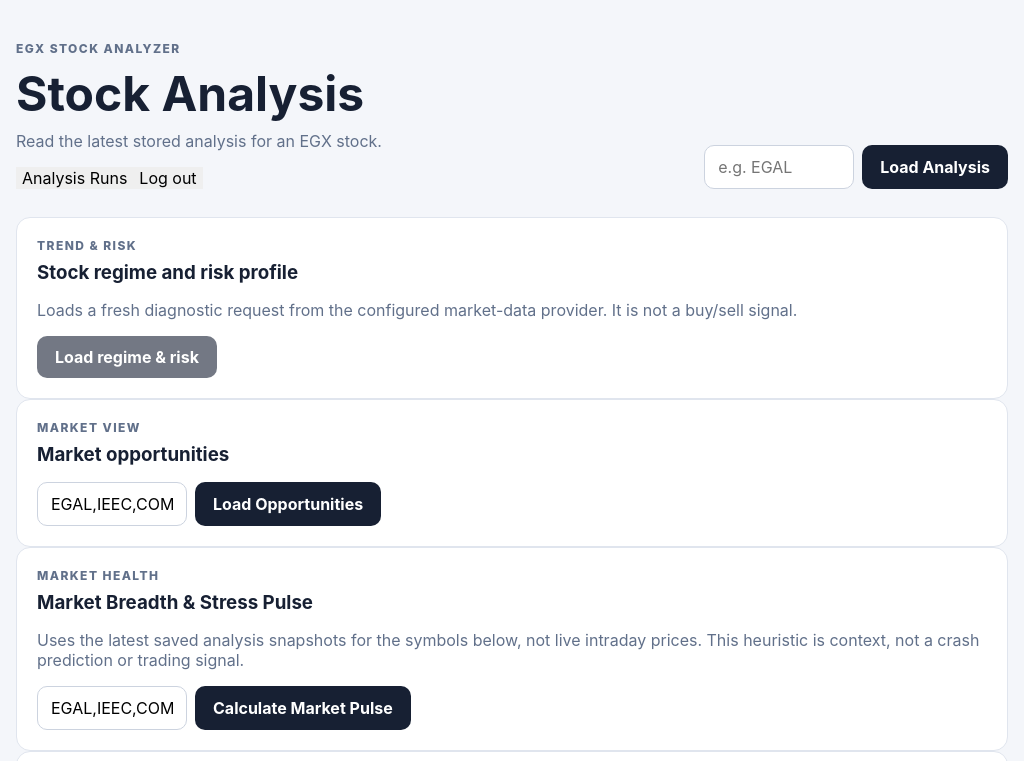
Scenario: Dashboard › renders market breadth stress with coverage and missing data context
Expected: the field named "Stock Symbol" is shown, [704, 145, 854, 189]
Type "egal,ieec,comi" into the field named "Market breadth symbols" below "Market Breadth & Stress Pulse" at point(112, 708), box [37, 686, 187, 730]
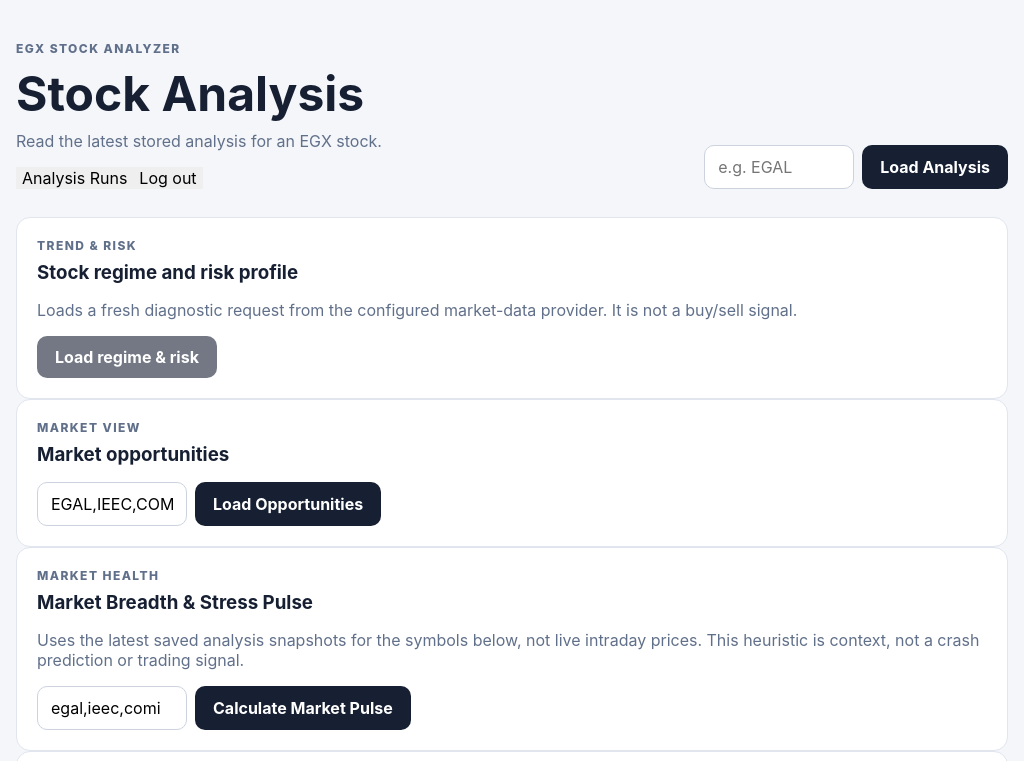
Click the button "Calculate Market Pulse" at point(303, 708), box [195, 686, 411, 730]
(page scrolled)
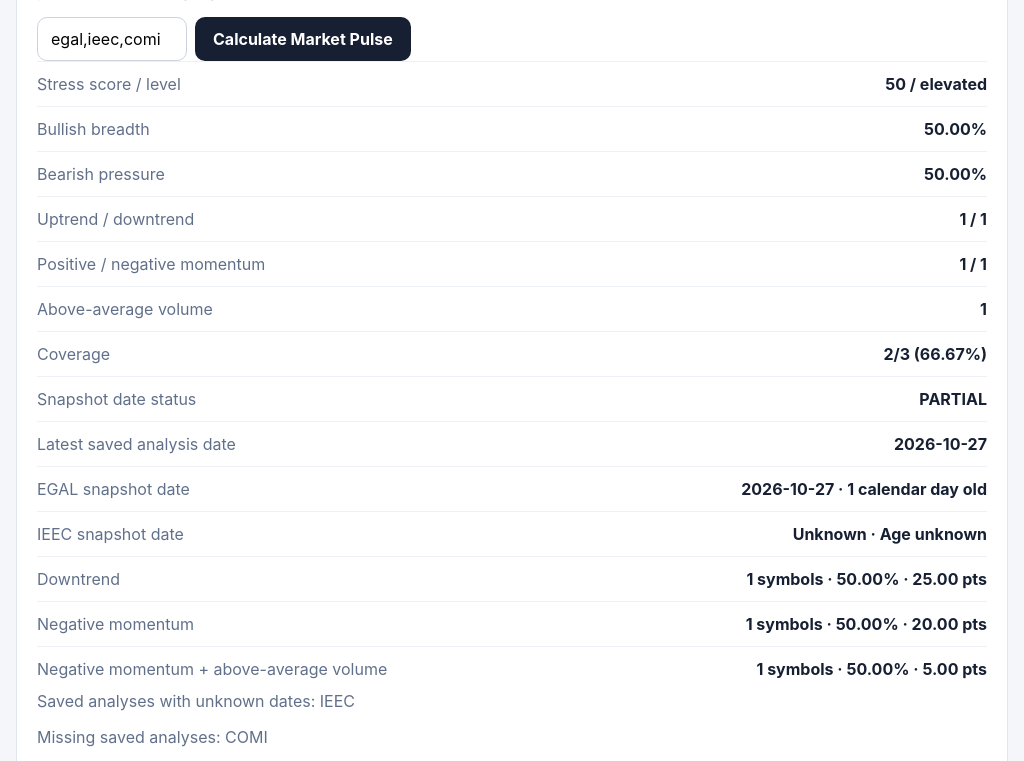
Expected: the element named "market breadth and stress pulse" shows "Snapshot date status", [37, 389, 196, 409]
Expected: the element named "market breadth and stress pulse" shows "PARTIAL", [919, 389, 987, 409]
Expected: the element named "market breadth and stress pulse" shows "Latest saved analysis date", [37, 434, 236, 454]
